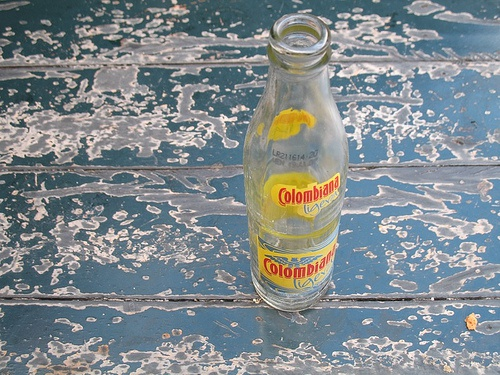emptybottle: (242, 12, 349, 310)
